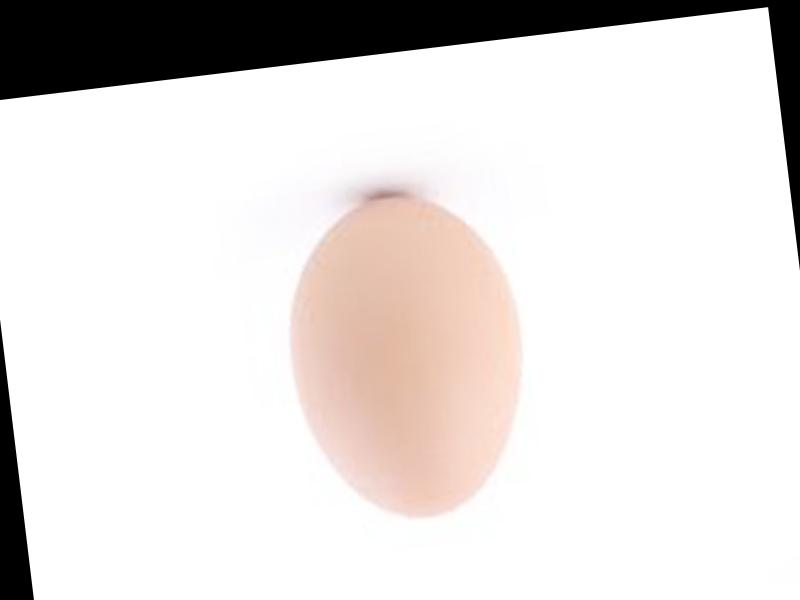Eggs: (270, 184, 537, 534)
